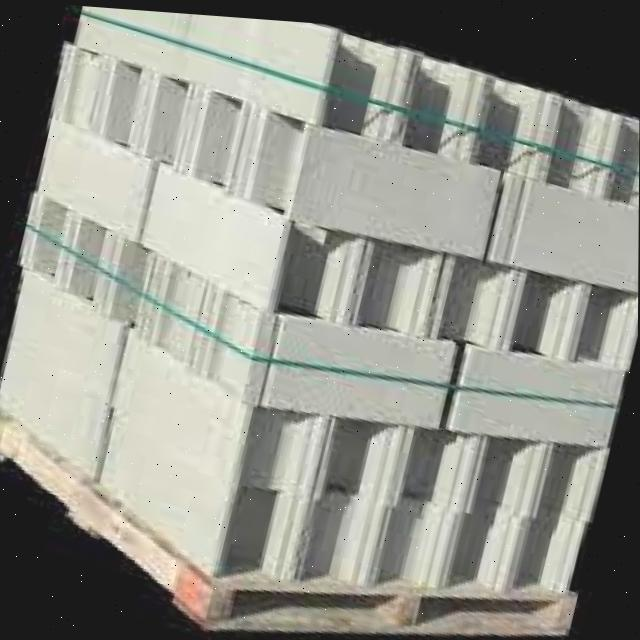bricks: (0, 6, 639, 587)
